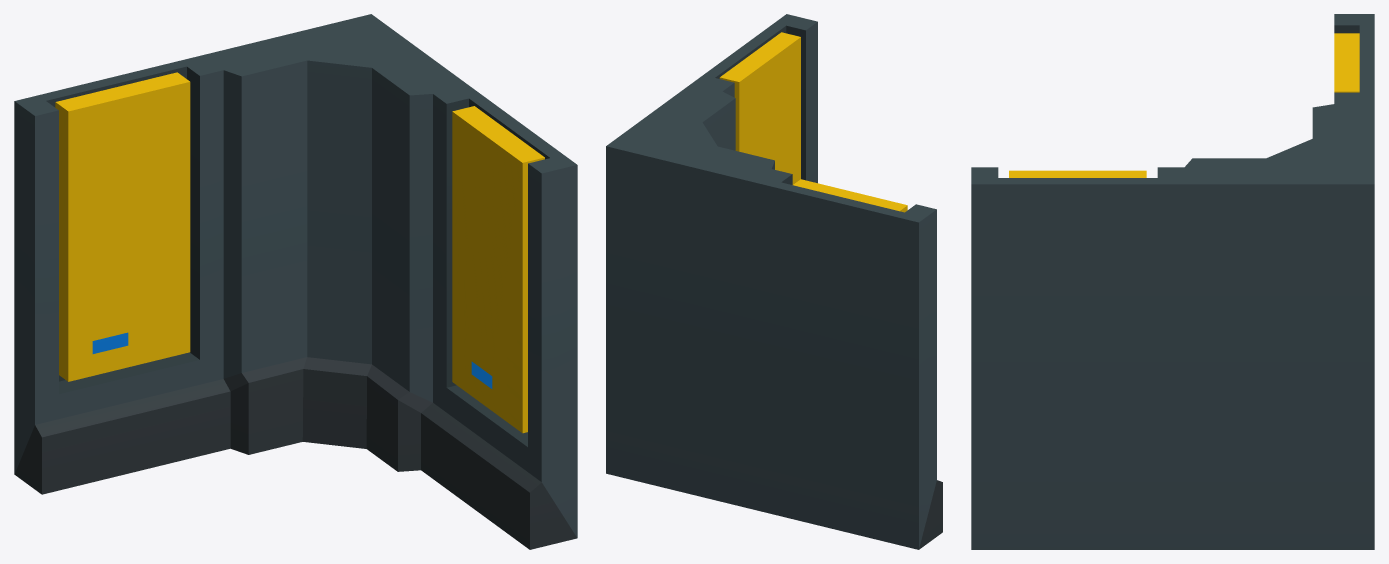
Rendered from Wall_type_C_047.glb.
3 renders of one model, left to right at view 1: azimuth 30°, elevation 25°; view 2: azimuth 150°, elevation 25°; view 3: azimuth 270°, elevation 25°, orthographic. The views are drawn at different scales.
Parts seen in each view (by area): view 1: Wall_type_C_047; view 2: Wall_type_C_047; view 3: Wall_type_C_047.
Part boxes in pixels (x1,y1,x2,y2): Wall_type_C_047: (14, 14, 577, 549); Wall_type_C_047: (606, 14, 942, 549); Wall_type_C_047: (971, 14, 1374, 549).
Bounding box in the file's own units: 1.5 × 1.5 × 1.5.
Materials: 2 (2 with a texture image).
